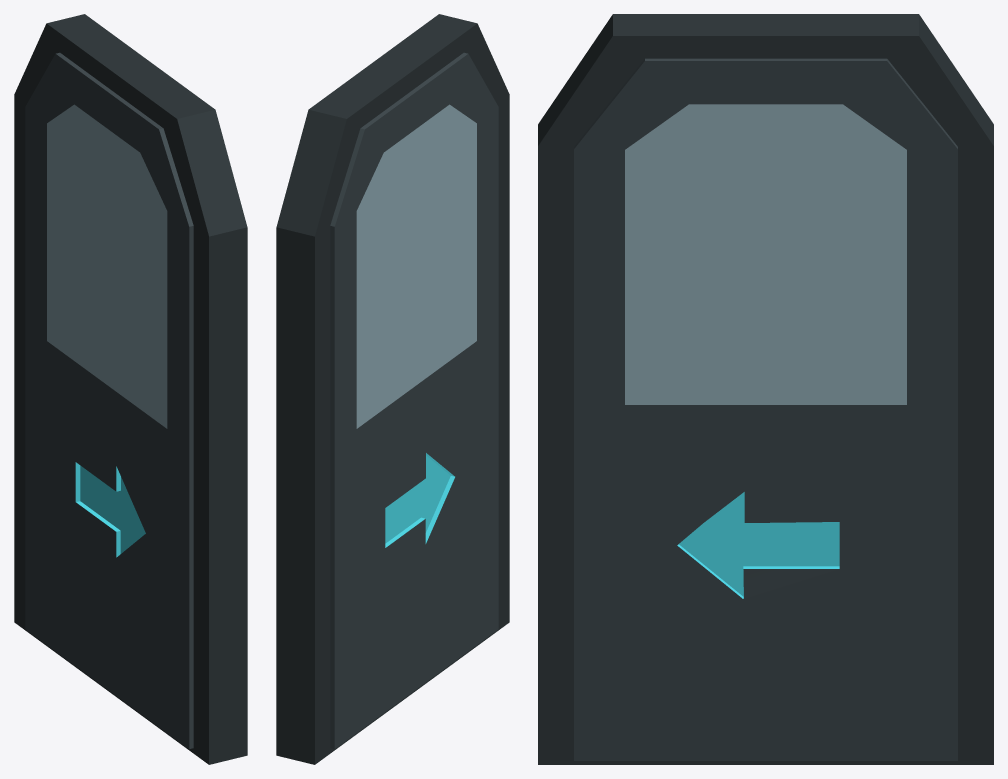
The model's file is PuertaNets.fbx.
The picture shows the model from 3 angles, left to right: view 1: azimuth 30°, elevation 25°; view 2: azimuth 150°, elevation 25°; view 3: azimuth 270°, elevation 25°; orthographic projection. The views are drawn at different scales.
Parts seen in each view (by area): view 1: Cube.009; view 2: Cube.009; view 3: Cube.009.
Boxes of the visible parts, <box> form: Cube.009: <box>14,14,247,764</box>; Cube.009: <box>276,14,509,764</box>; Cube.009: <box>538,14,993,764</box>.
Bounding box in the file's own units: 25.02 × 314 × 178.
1 material, 1 textured.
